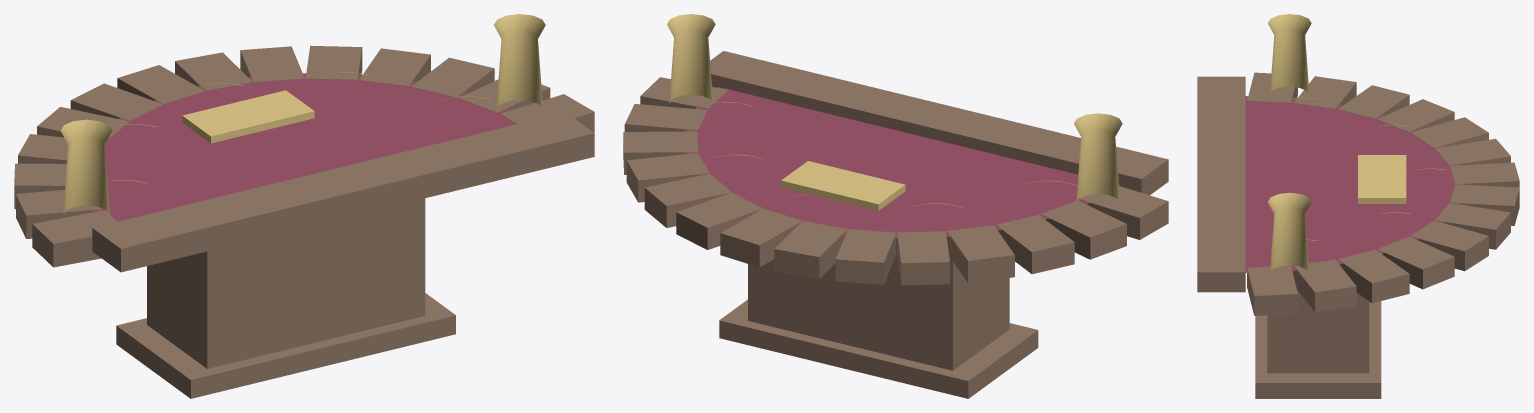
The model's file is casino-floor-and-back-rooms-high-limit-table-7ea7e30a__27007.glb.
3 views of the same model, side by side, from view 1: azimuth 30°, elevation 25°; view 2: azimuth 150°, elevation 25°; view 3: azimuth 270°, elevation 25° (orthographic). The views are drawn at different scales.
Visible parts, largest first — view 1: high-limit-table; view 2: high-limit-table; view 3: high-limit-table.
Boxes of the visible parts, x1,y1,x2,y2 form: high-limit-table: (14, 14, 594, 398); high-limit-table: (623, 14, 1168, 398); high-limit-table: (1197, 14, 1519, 398).
Size of the model in its own units: 2.4 by 1.16 by 1.46.
